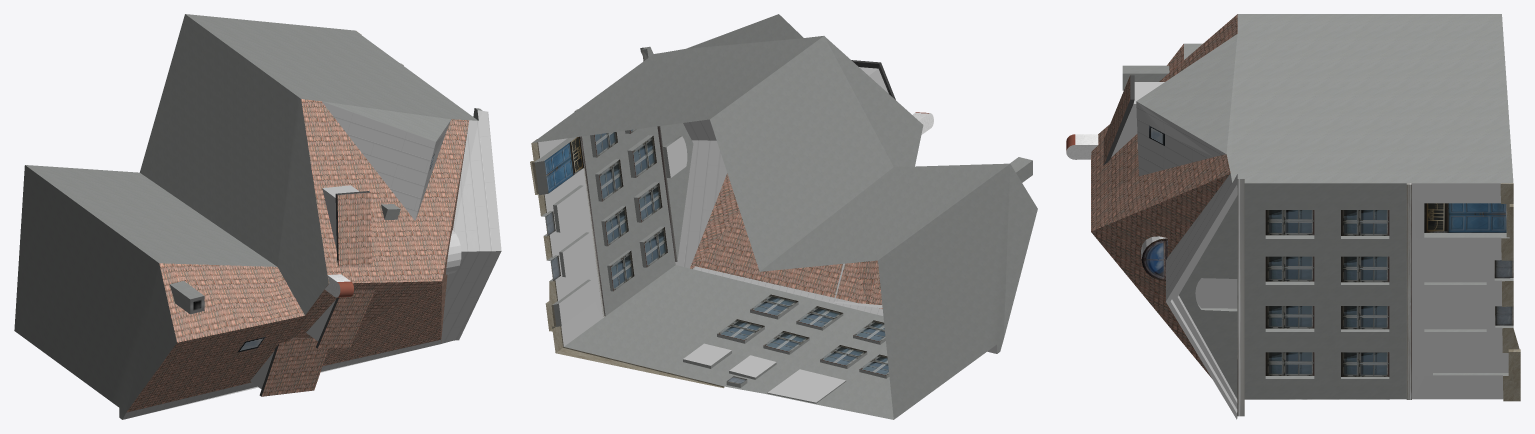
Rendered from Lyhike_jalg_2.obj.
3 renders of one model, left to right at view 1: azimuth 30°, elevation 25°; view 2: azimuth 150°, elevation 25°; view 3: azimuth 270°, elevation 25°, orthographic. The views are drawn at different scales.
Parts seen in each view (by area): view 1: Lyhike_jalg_2; view 2: Lyhike_jalg_2; view 3: Lyhike_jalg_2.
Part boxes in pixels (box(x1,y1,x2,y2)): Lyhike_jalg_2: box(14, 14, 501, 419); Lyhike_jalg_2: box(530, 14, 1037, 419); Lyhike_jalg_2: box(1066, 14, 1520, 419).
Bounding box in the file's own units: 20.51 × 14.98 × 19.39.
